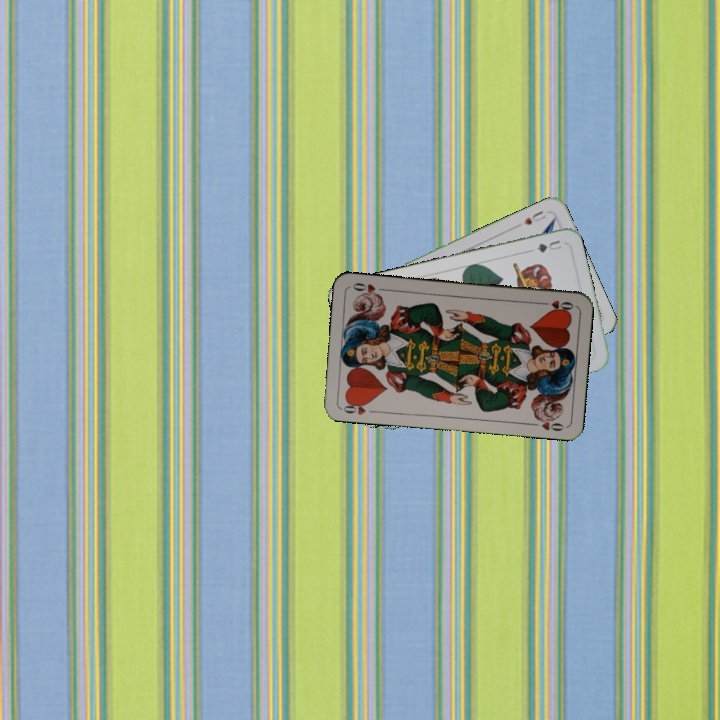GU: (532, 236, 566, 255)
HO: (536, 296, 576, 314), (338, 397, 372, 417)
HU: (519, 207, 548, 227)
